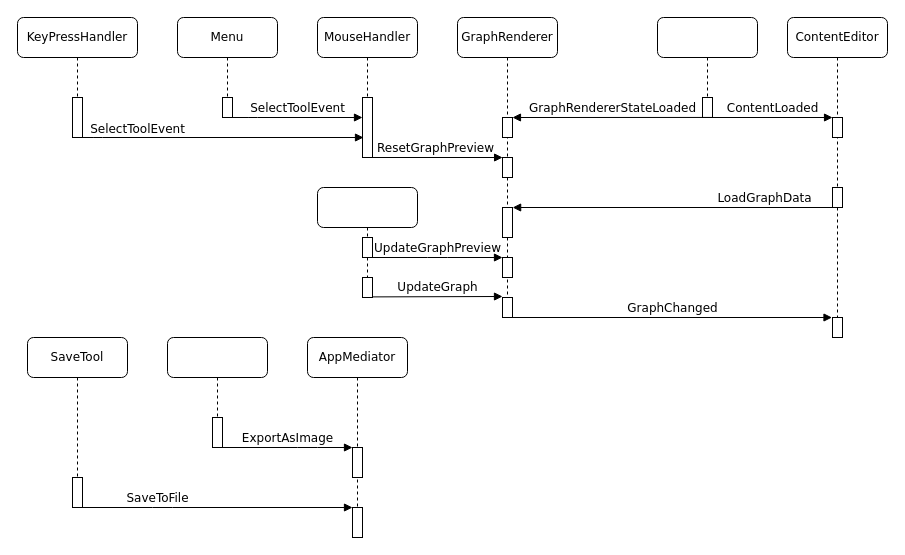
The diagram is 905 pixels wide and 555 high, and some of its shapes have lost their labels. The centre of each missing label's shape, as x and y in pixels:
DrawMazeTool: [367,242]
ExportTool: [217,392]
LoadTool: [707,67]
